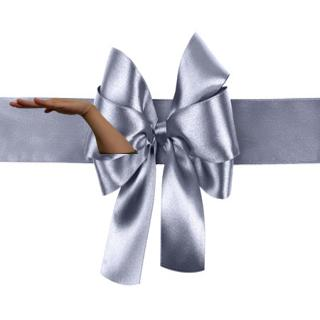WAIT: (6, 93, 91, 119)
